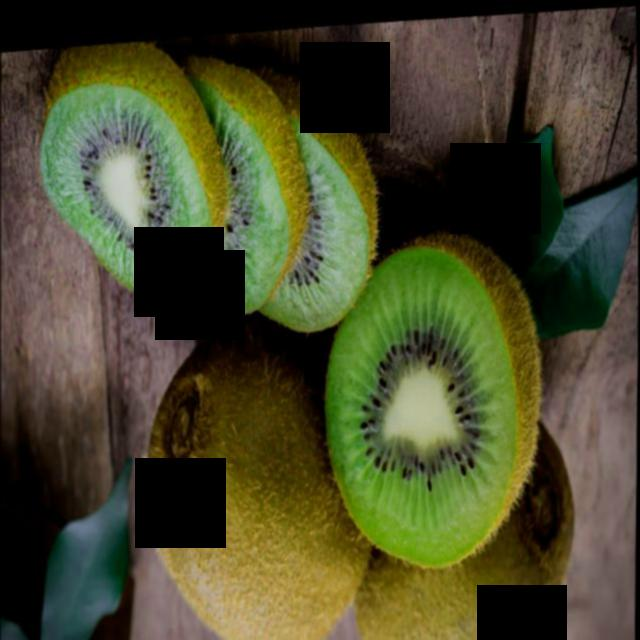kiwi: (141, 301, 360, 640), (351, 409, 583, 640)
